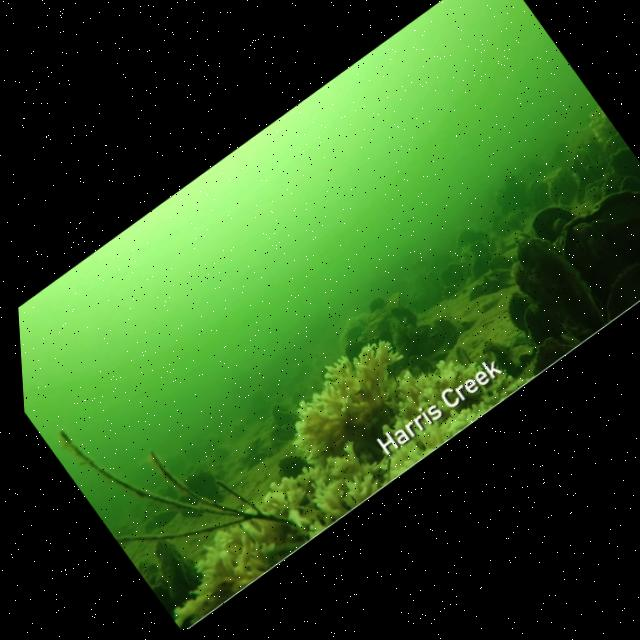Oyster-Closed: (138, 499, 183, 538), (234, 433, 270, 466)
Oyster-Indeterminate: (505, 231, 612, 347), (542, 173, 640, 296), (140, 524, 209, 600), (587, 244, 640, 323), (517, 192, 583, 252), (177, 457, 234, 518), (513, 294, 565, 350), (522, 329, 575, 377), (132, 549, 178, 604), (498, 282, 543, 332), (270, 445, 317, 492), (510, 227, 557, 271), (376, 313, 419, 360), (523, 171, 564, 216), (544, 164, 588, 205), (236, 441, 278, 481), (391, 309, 431, 351), (335, 330, 376, 370), (401, 346, 441, 386), (272, 400, 311, 441), (482, 243, 522, 281), (474, 264, 514, 302), (605, 143, 640, 185), (350, 313, 390, 349), (449, 219, 486, 256), (436, 255, 474, 290), (420, 312, 457, 347), (258, 426, 292, 463), (594, 127, 629, 161), (461, 251, 495, 284), (438, 276, 471, 307), (262, 418, 294, 449), (376, 287, 407, 318), (595, 177, 625, 204), (580, 182, 608, 208), (616, 169, 640, 198), (546, 212, 572, 238), (362, 302, 390, 326), (208, 439, 233, 463), (462, 279, 487, 303), (597, 166, 622, 190), (266, 396, 290, 420), (455, 269, 479, 293), (278, 419, 301, 442), (553, 190, 575, 212), (631, 167, 640, 205)
Oyster-Open: (477, 327, 531, 386), (451, 341, 479, 372)
